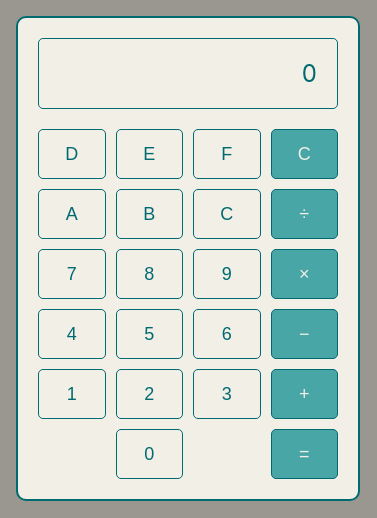
Scenario: Hexadecimal Calculator › should perform subtraction correctly
Click the button "F": (227, 154) [193,129,261,179]
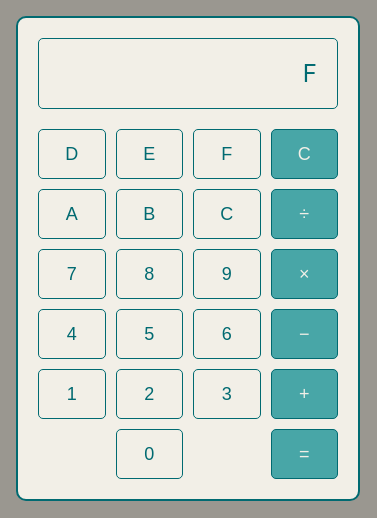
Click the button "−": (305, 334) [271,309,339,359]
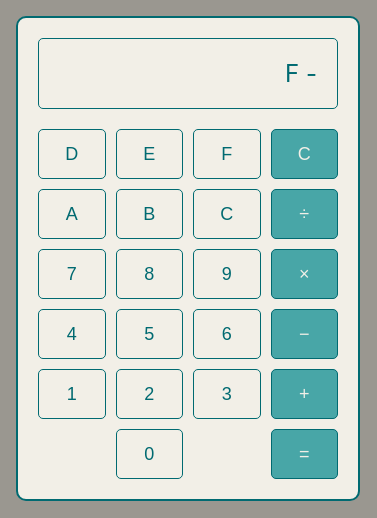
Click the button "A": (72, 214) [38,189,106,239]
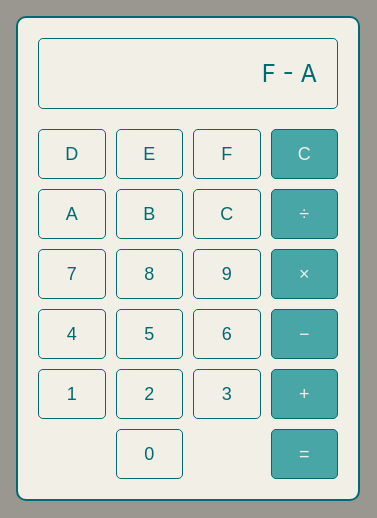
Click the button with class "equal": (305, 454) [271,429,339,479]
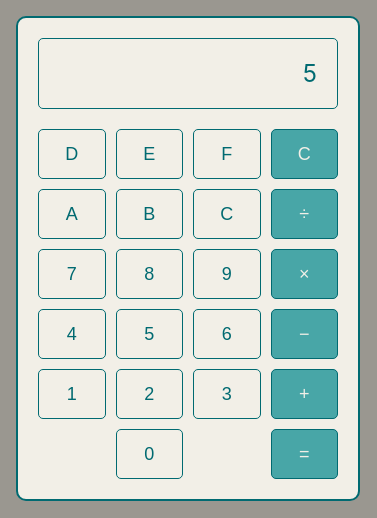
Expected: the text with class "display" reads "5", [303,59,317,88]
